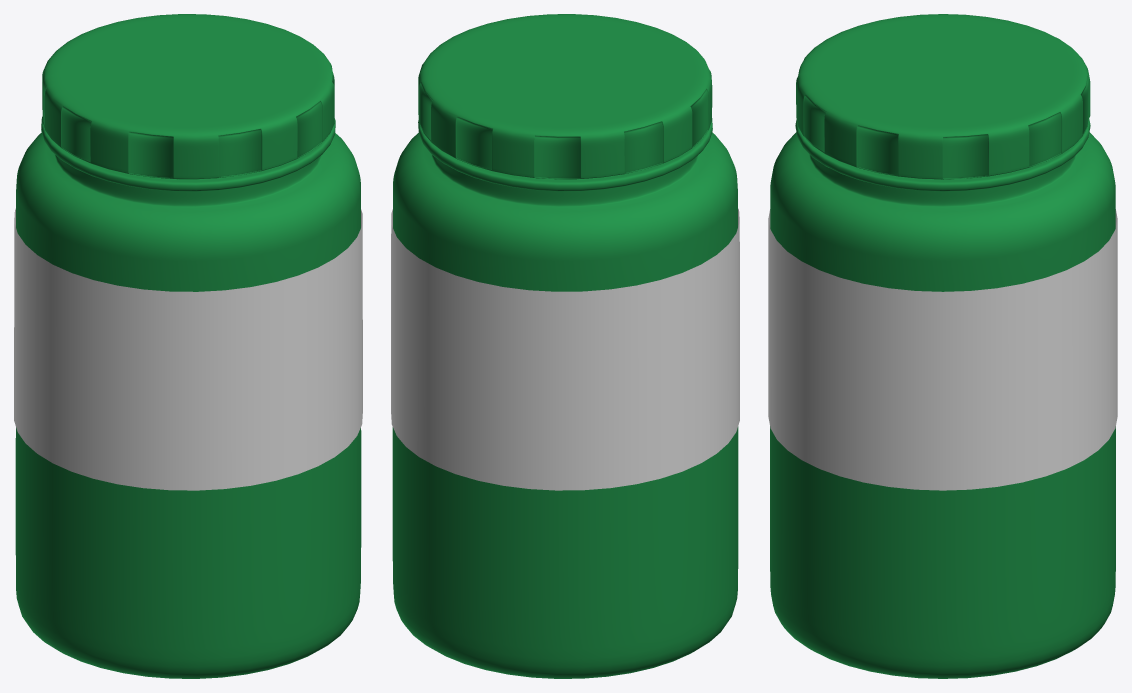
Rendered from médoc.fbx.
The picture shows the model from 3 angles, left to right: view 1: azimuth 30°, elevation 25°; view 2: azimuth 150°, elevation 25°; view 3: azimuth 270°, elevation 25°; orthographic projection.
Parts seen in each view (by area): view 1: Point.001, Point.003, Point.002; view 2: Point.001, Point.003, Point.002; view 3: Point.001, Point.003, Point.002.
Part boxes in pixels (x1,y1,x2,y2): Point.001: (15,116,361,678); Point.003: (14,208,362,490); Point.002: (42,14,334,179); Point.001: (392,118,738,678); Point.003: (391,208,739,490); Point.002: (418,14,712,179); Point.001: (770,119,1115,678); Point.003: (768,209,1117,490); Point.002: (796,14,1090,179).
Bounding box in the file's own units: 178 × 307 × 178.
